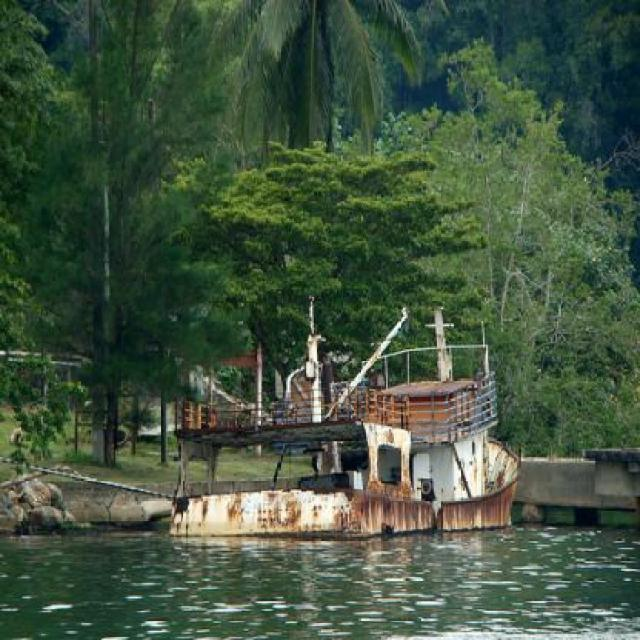ship: (166, 302, 520, 533)
